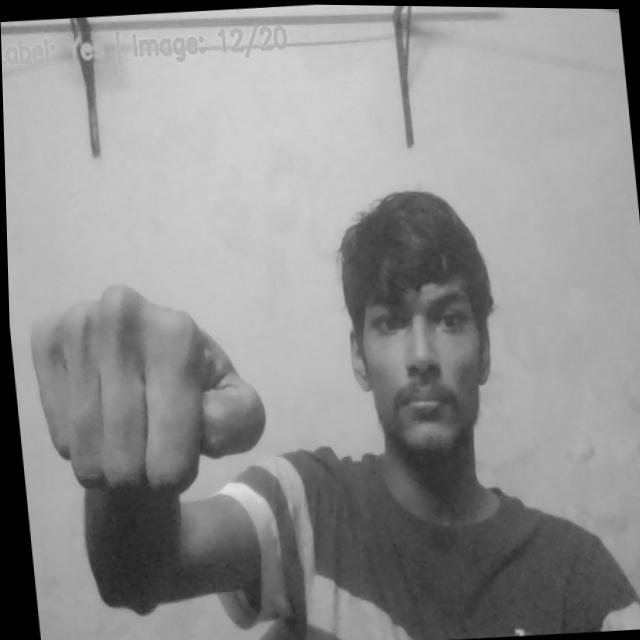Yes: (22, 275, 270, 506)
